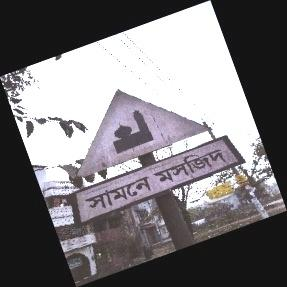Mosque in front: (66, 89, 248, 228)
